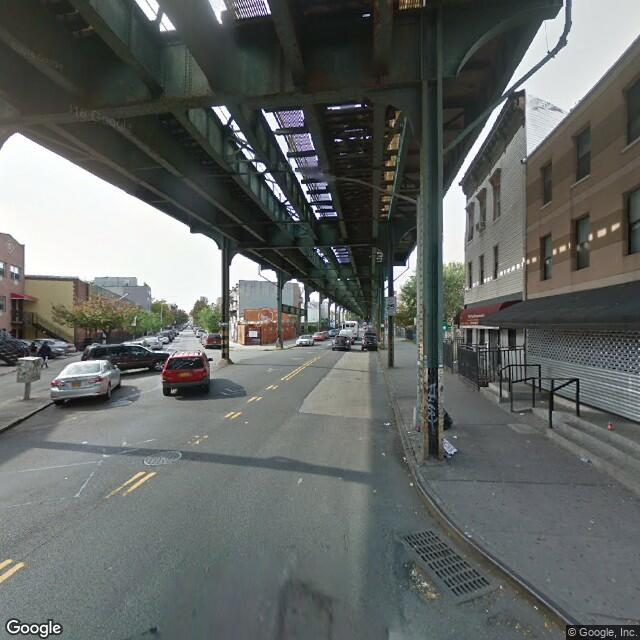litter: (440, 434, 466, 465)
